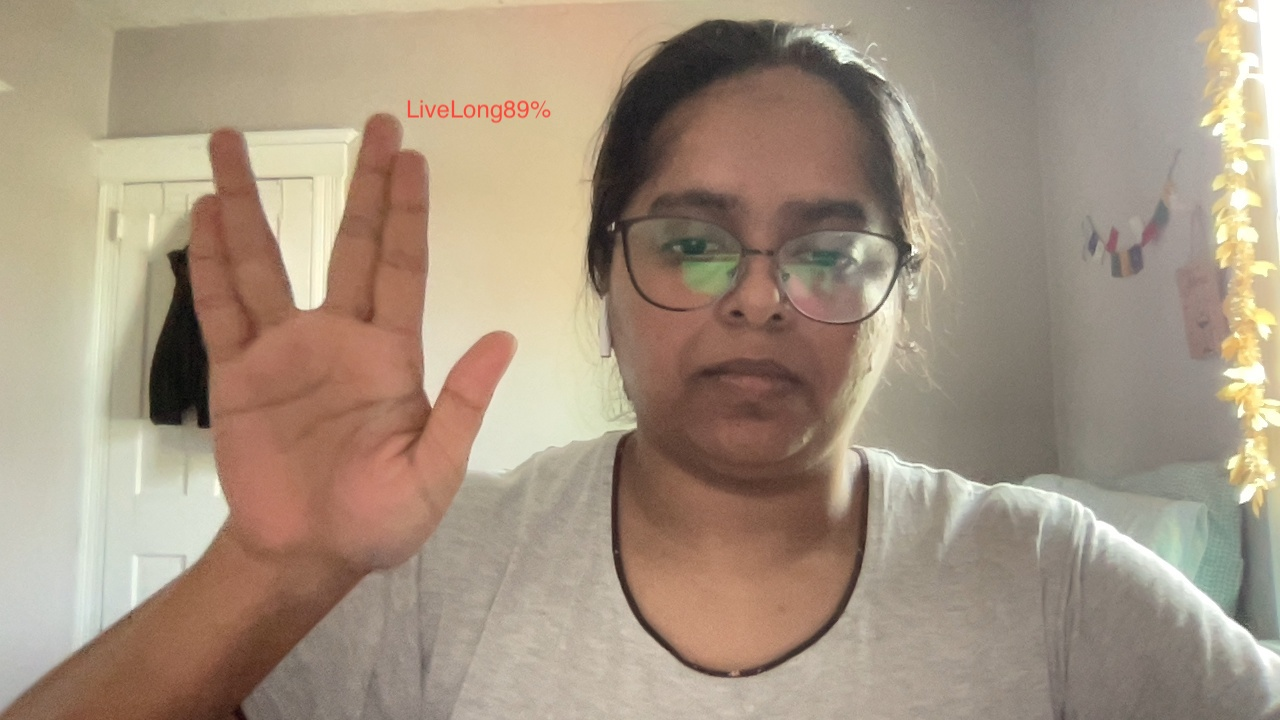ThankYou: (186, 112, 520, 566)
